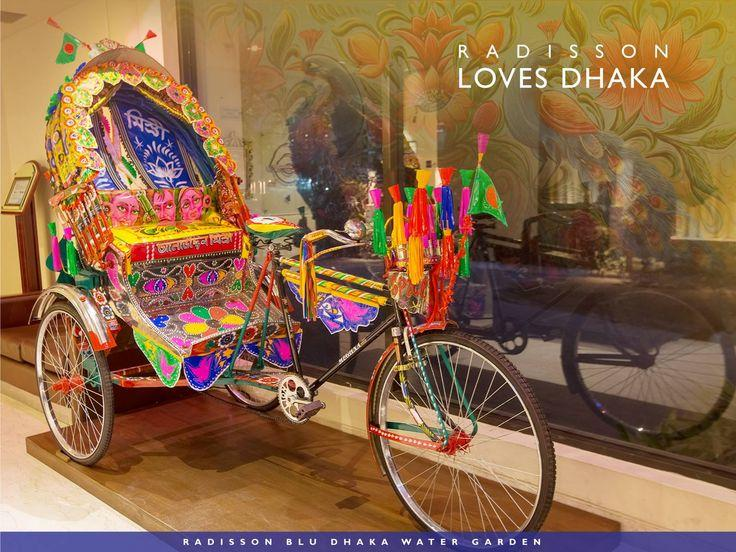Rickshaw: (31, 42, 554, 531)
